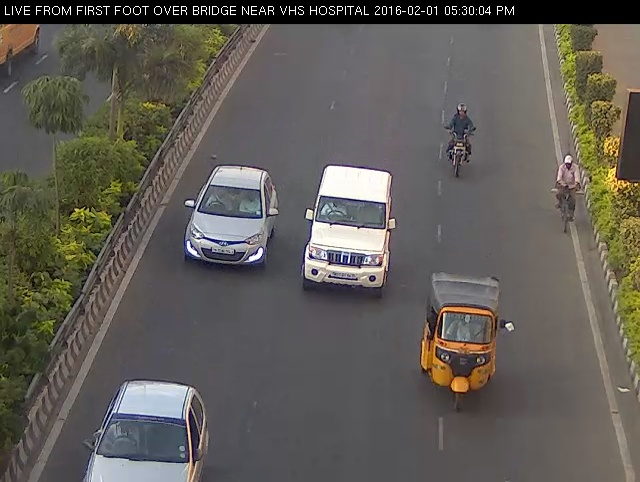Auto: (416, 268, 521, 418)
Car: (298, 154, 400, 298), (80, 376, 213, 482), (181, 151, 283, 277)
Person: (440, 95, 480, 186)
